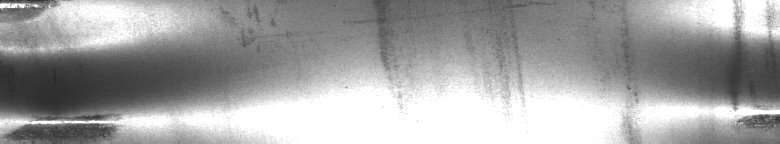ke: (4, 4, 120, 136)
